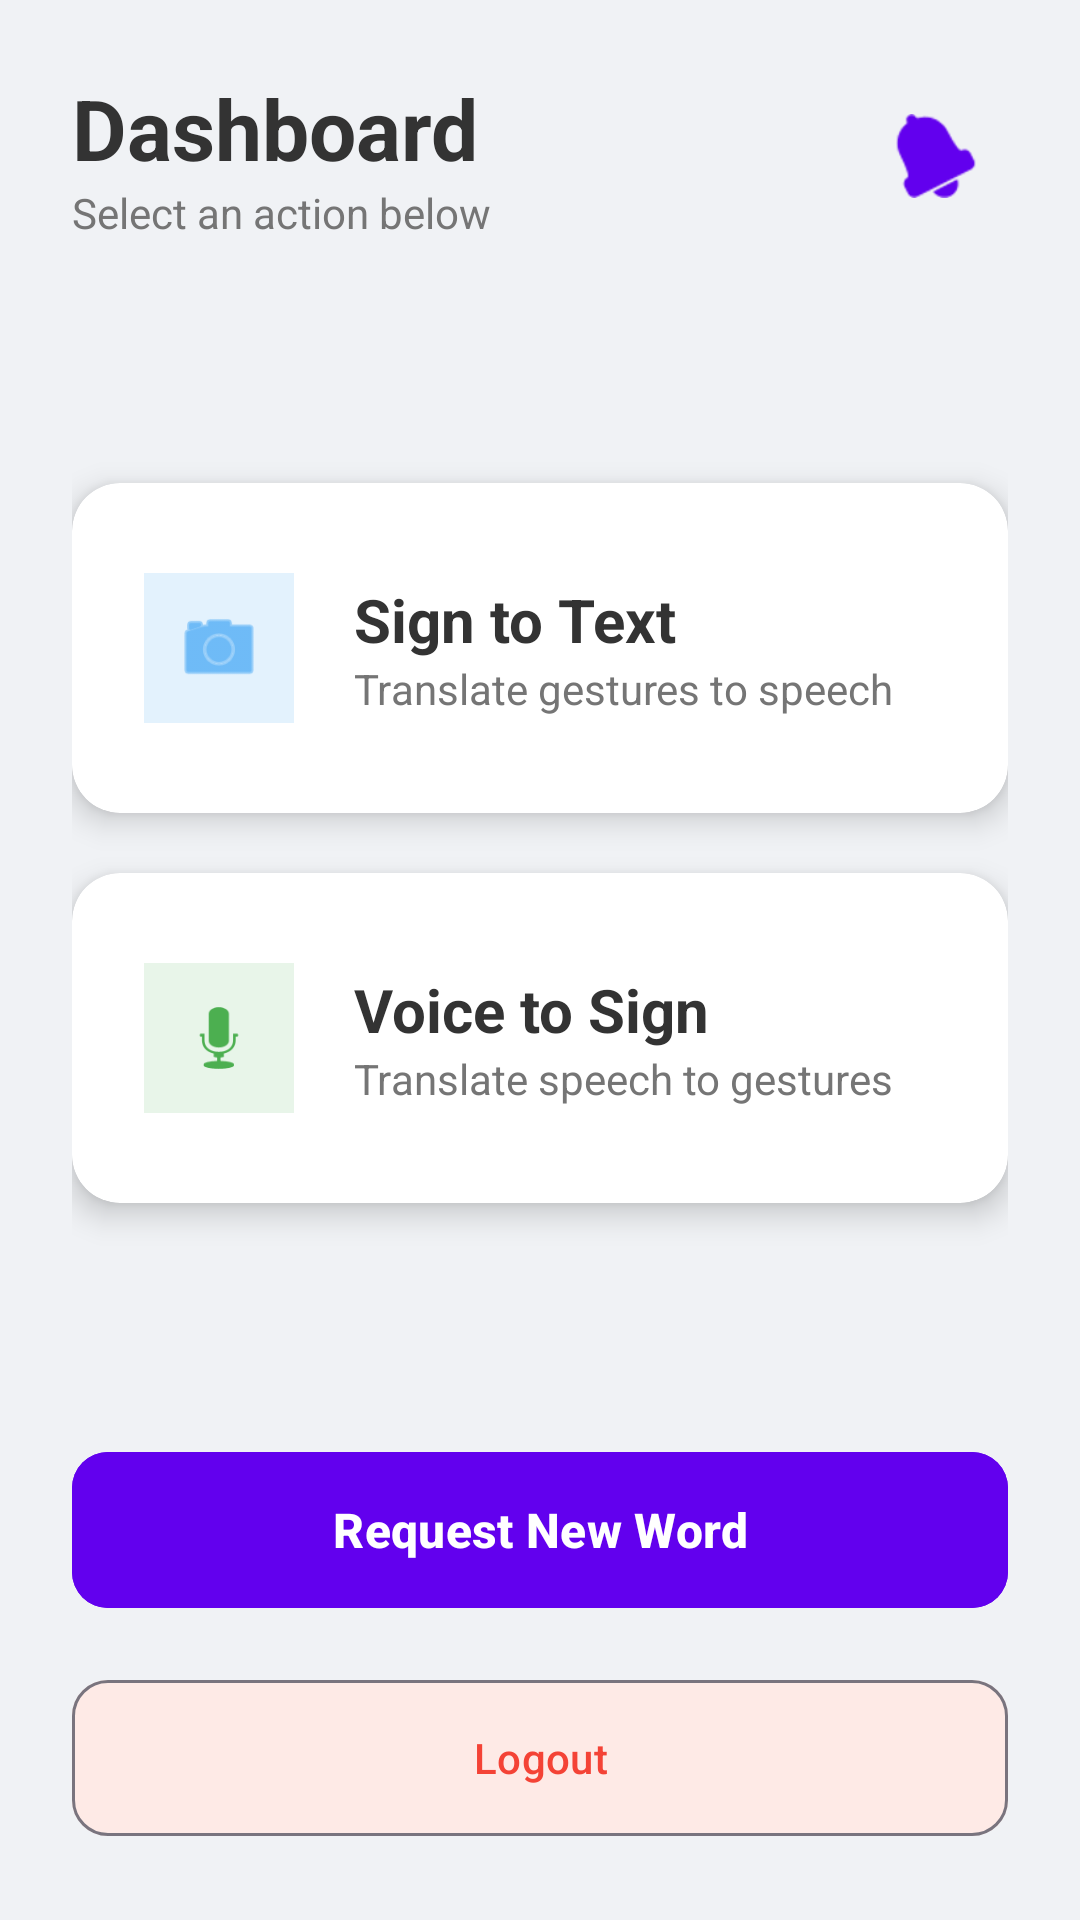

Named icons in this screenshot (1080w x 1920h) and their bounding boxes, (x1, y1, x2, y2):
camera: (184, 619, 254, 674)
popup reminder: (896, 114, 976, 198)
speak now: (199, 1007, 239, 1069)
